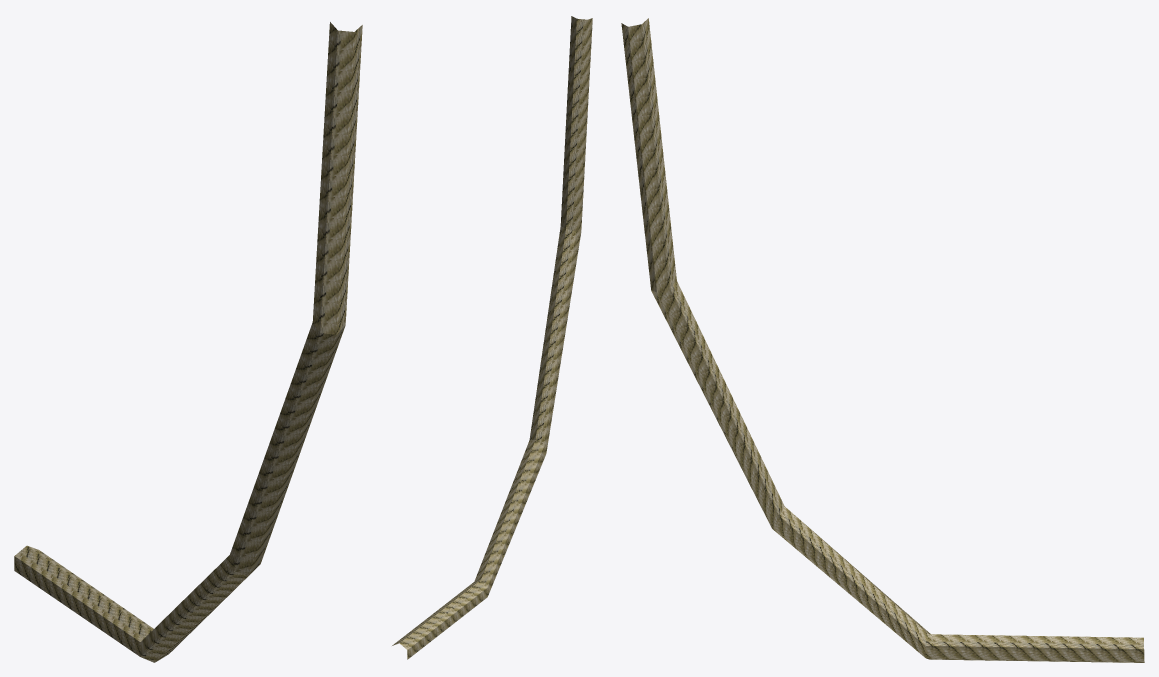
The model's file is ropehanging.glb.
3 renders of one model, left to right at view 1: azimuth 30°, elevation 25°; view 2: azimuth 150°, elevation 25°; view 3: azimuth 270°, elevation 25°, orthographic. The views are drawn at different scales.
Visible parts, largest first — view 1: Cylinder; view 2: Cylinder; view 3: Cylinder.
Part boxes in pixels (box(x1,y1,x2,y2)): Cylinder: box(14, 22, 362, 662); Cylinder: box(392, 16, 592, 659); Cylinder: box(621, 18, 1144, 662).
Bounding box in the file's own units: 0.5809 × 9.68 × 7.03.
Materials: 1 (1 with a texture image).
